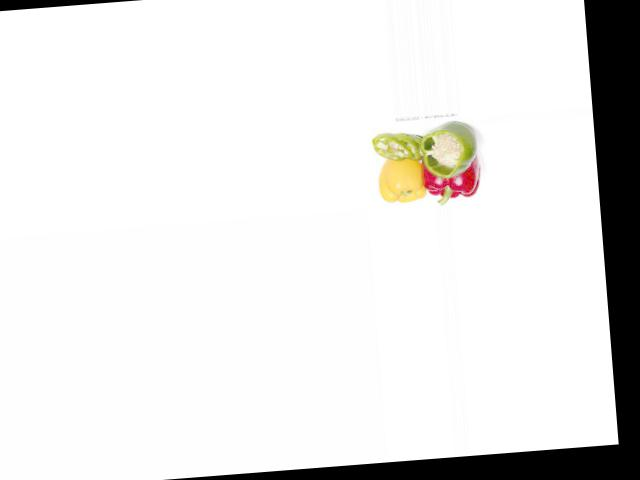bell_pepper: (418, 123, 484, 181)
